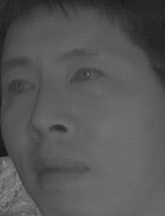eye: (68, 67, 105, 88), (6, 76, 37, 98)
mouth: (29, 153, 91, 194)
